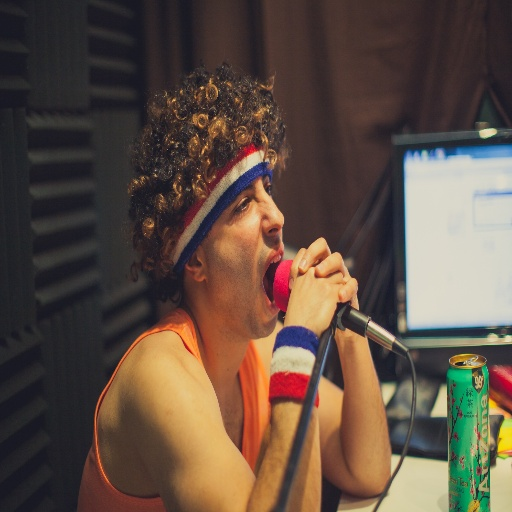hand: (287, 236, 359, 337)
